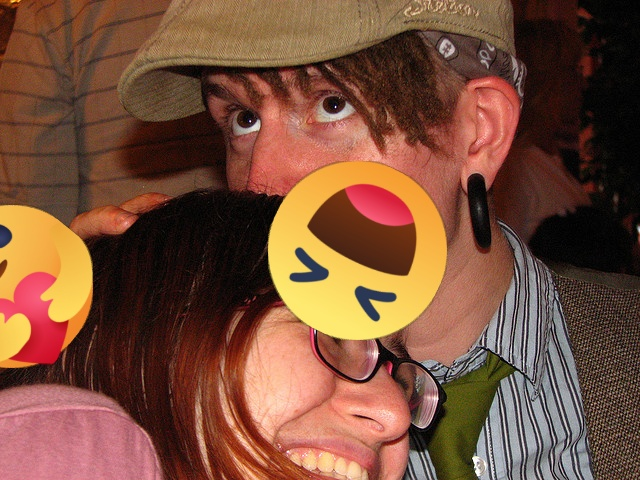care: (0, 205, 93, 368)
haha: (268, 161, 447, 340)
